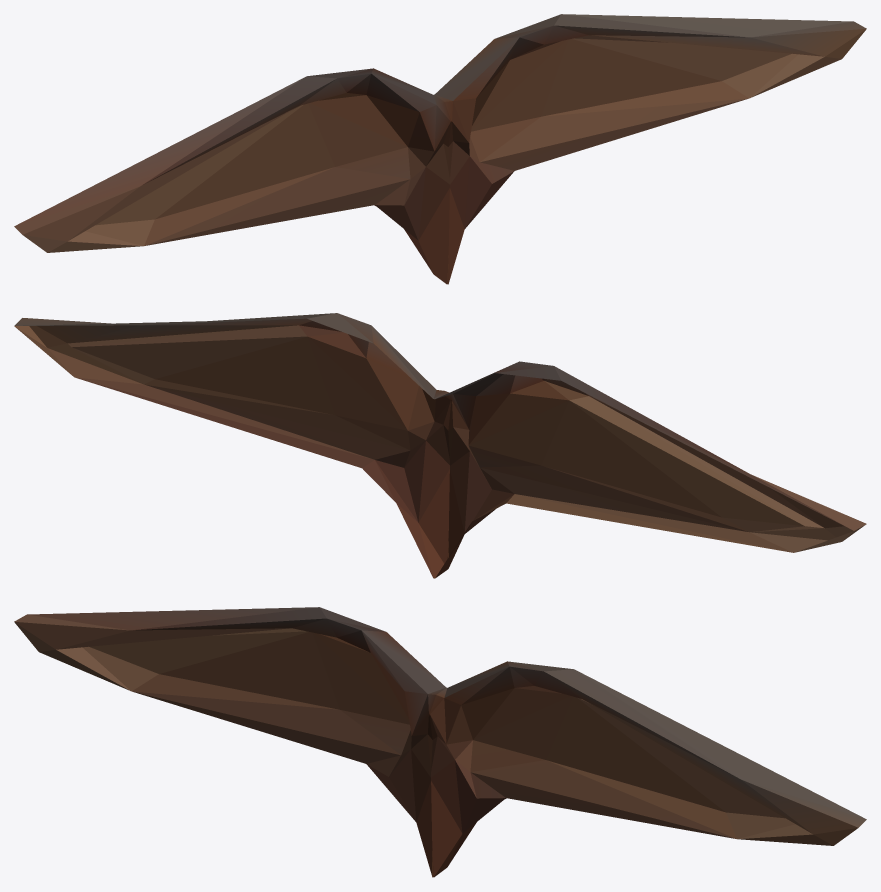
The model's file is Prop_CarvingD.fbx.
The picture shows the model from 3 angles, top to bottom: view 1: azimuth 30°, elevation 25°; view 2: azimuth 150°, elevation 25°; view 3: azimuth 330°, elevation 25°; orthographic projection.
Visible parts, largest first — view 1: Prop_CarvingD; view 2: Prop_CarvingD; view 3: Prop_CarvingD.
Part boxes in pixels (x1=…): Prop_CarvingD: x1=14, y1=14, x2=866, y2=284; Prop_CarvingD: x1=14, y1=313, x2=866, y2=578; Prop_CarvingD: x1=14, y1=607, x2=866, y2=877.
Bounding box in the file's own units: 191 × 49.82 × 6.99.
